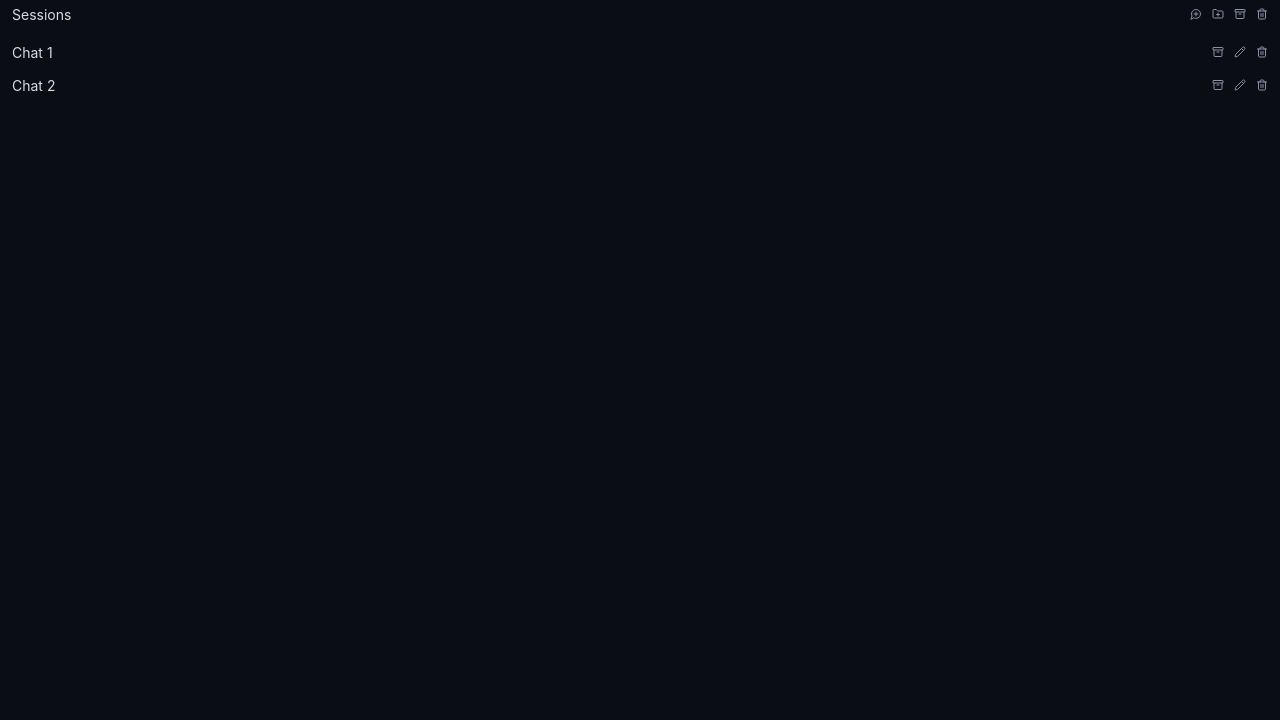
Test case: history chrome and bulk actions (v2.4.4 Phase 2) › cancel leaves the list untouched
Click the button with test id "folder-tree-delete-all": (1262, 14) x1=1252 y1=0 x2=1272 y2=28
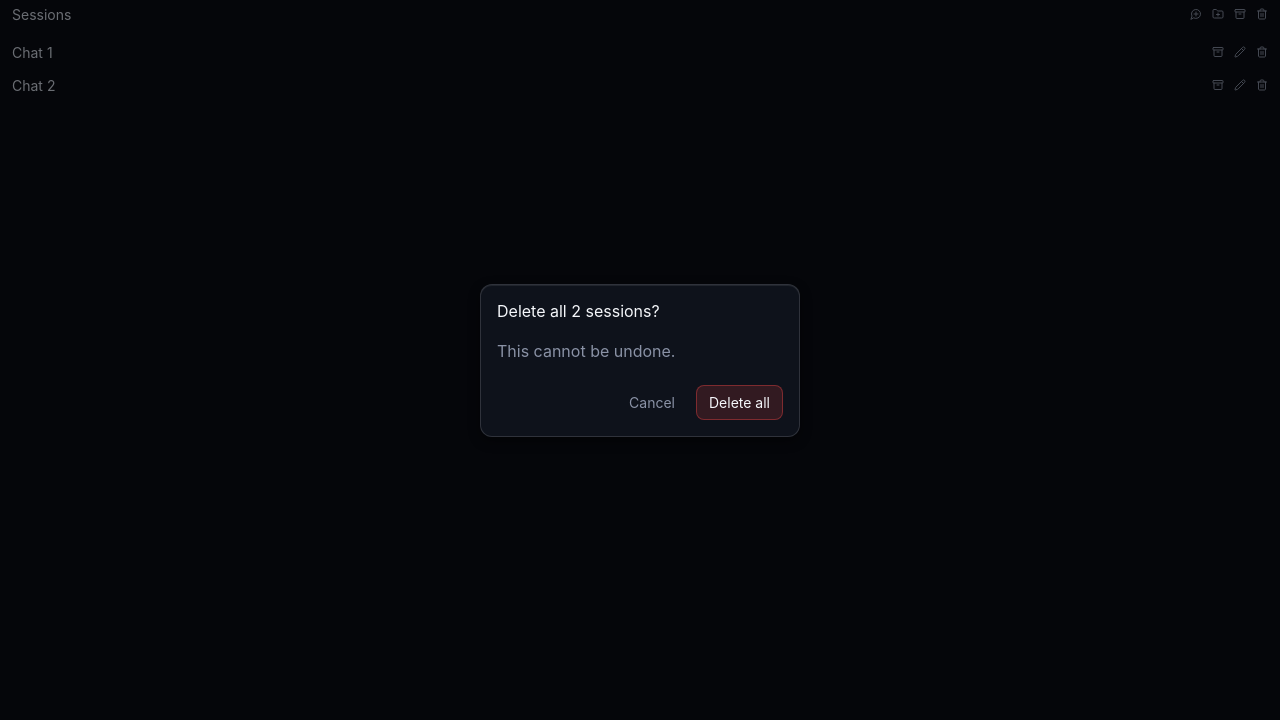
Click the button with test id "confirm-bulk-cancel": (652, 402) x1=616 y1=384 x2=688 y2=420
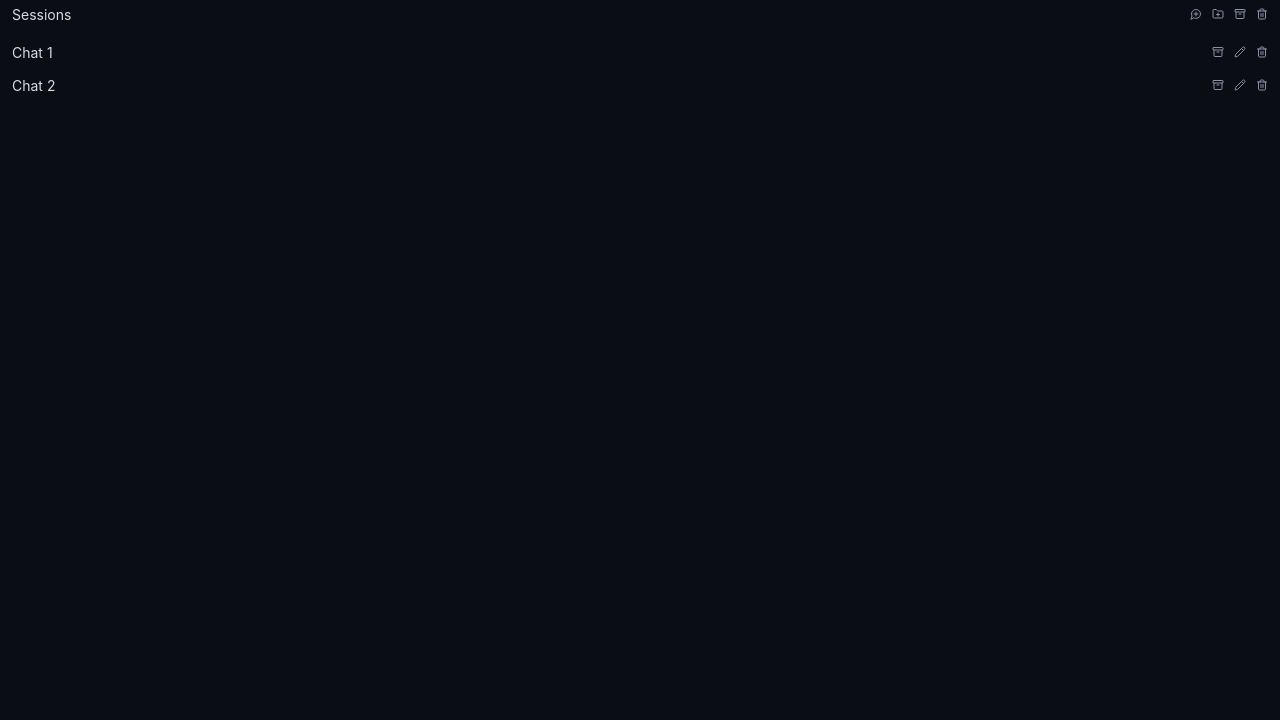
Check: the dialog with test id "folder-tree-confirm-bulk" is gone
